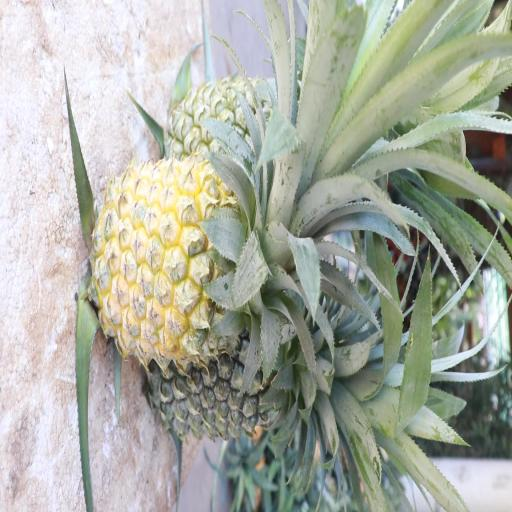Pineapple - v8 v1: (91, 162, 322, 367)
